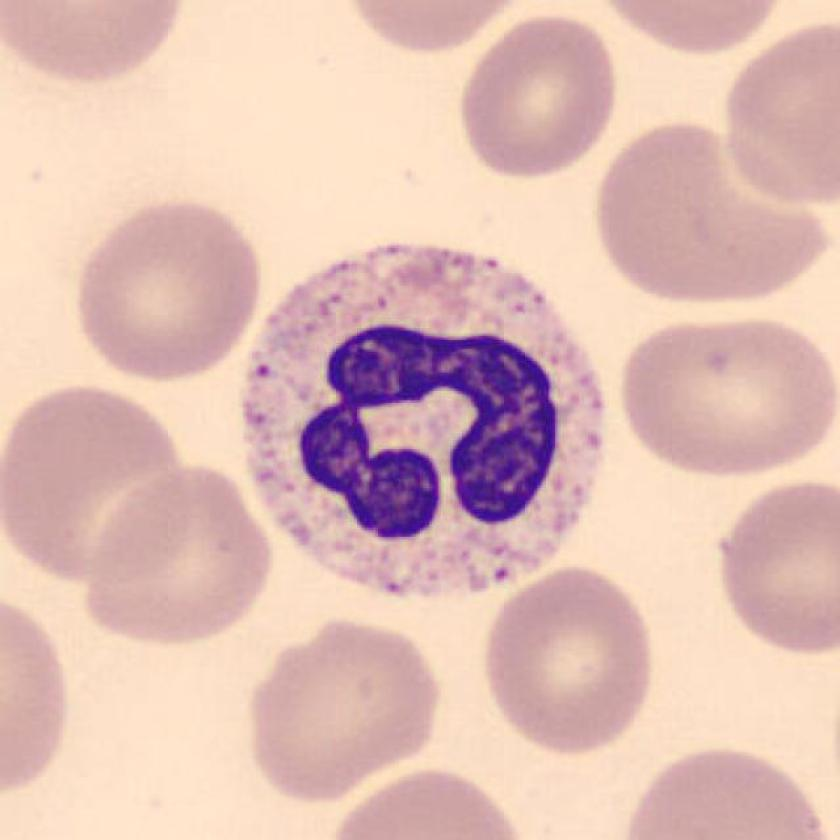neutrophil: (243, 245, 608, 594)
